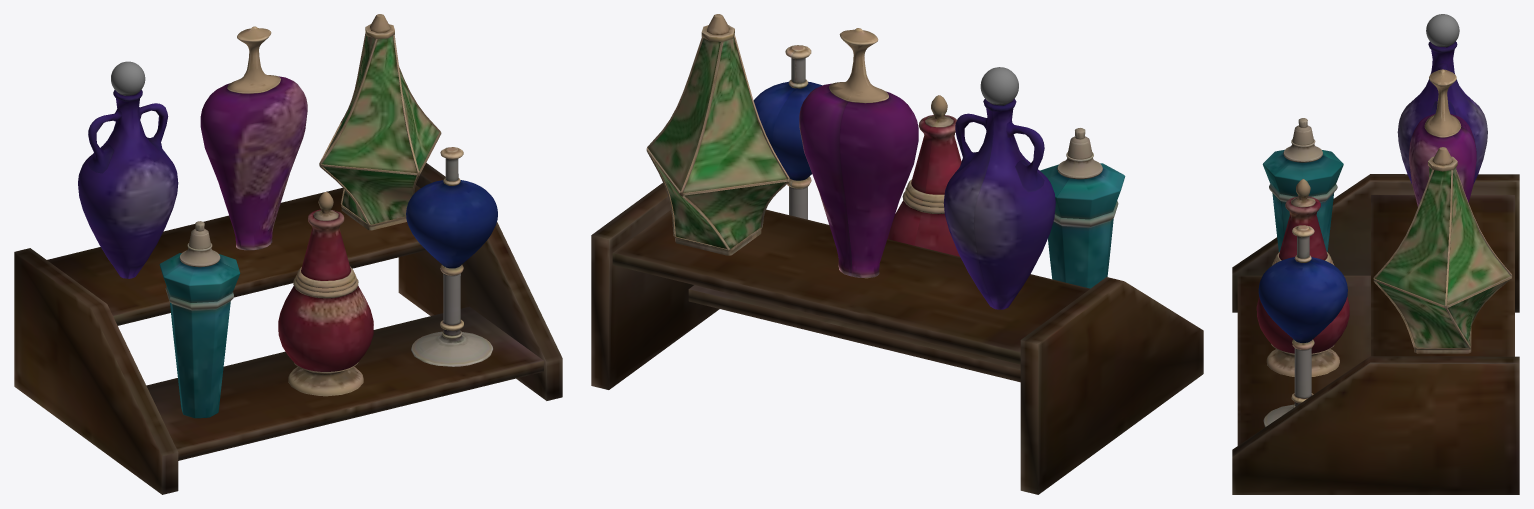
Rendered from potions2.glb.
3 views of the same model, side by side, from view 1: azimuth 30°, elevation 25°; view 2: azimuth 150°, elevation 25°; view 3: azimuth 270°, elevation 25° (orthographic). The views are drawn at different scales.
Parts seen in each view (by area): view 1: Shelf01_shelf_mt_0, Potion04_potion04_glass_0, Potion07_potion07_glass_0, Potion06_potion06_glass_0, Potion01_potion01_glass_0, Potion03_potion03_glass_0, Potion02_potion02_glass_0, Potion02_potion02_metal_0, Potion01_potion01_metal_0, Potion06_potion06_metal_0, Potion04_potion04_metal_0, Potion03_potion03_metal_0 (+1 smaller); view 2: Shelf01_shelf_mt_0, Potion06_potion06_glass_0, Potion04_potion04_glass_0, Potion07_potion07_glass_0, Potion03_potion03_glass_0, Potion01_potion01_glass_0, Potion06_potion06_metal_0, Potion02_potion02_glass_0, Potion04_potion04_metal_0, Potion02_potion02_metal_0, Potion01_potion01_metal_0, Potion03_potion03_metal_0 (+1 smaller); view 3: Shelf01_shelf_mt_0, Potion06_potion06_glass_0, Potion02_potion02_glass_0, Potion03_potion03_glass_0, Potion07_potion07_glass_0, Potion01_potion01_glass_0, Potion04_potion04_glass_0, Potion06_potion06_metal_0, Potion02_potion02_metal_0, Potion01_potion01_metal_0, Potion04_potion04_metal_0, Potion03_potion03_metal_0 (+1 smaller).
Boxes of the visible parts, left/top/right/bottom form: Shelf01_shelf_mt_0: left=14, top=163, right=562, bottom=494; Potion04_potion04_glass_0: left=200, top=76, right=307, bottom=250; Potion07_potion07_glass_0: left=78, top=90, right=178, bottom=278; Potion06_potion06_glass_0: left=322, top=35, right=439, bottom=224; Potion01_potion01_glass_0: left=278, top=209, right=373, bottom=371; Potion03_potion03_glass_0: left=159, top=253, right=240, bottom=418; Potion02_potion02_glass_0: left=406, top=180, right=497, bottom=268; Potion02_potion02_metal_0: left=411, top=147, right=492, bottom=366; Potion01_potion01_metal_0: left=288, top=192, right=363, bottom=396; Potion06_potion06_metal_0: left=319, top=14, right=441, bottom=230; Potion04_potion04_metal_0: left=227, top=26, right=280, bottom=93; Potion03_potion03_metal_0: left=179, top=221, right=220, bottom=267; Shelf01_shelf_mt_0: left=591, top=183, right=1203, bottom=494; Potion06_potion06_glass_0: left=648, top=38, right=786, bottom=248; Potion04_potion04_glass_0: left=799, top=83, right=918, bottom=278; Potion07_potion07_glass_0: left=943, top=98, right=1055, bottom=309; Potion03_potion03_glass_0: left=1040, top=163, right=1125, bottom=288; Potion01_potion01_glass_0: left=887, top=115, right=961, bottom=256; Potion06_potion06_metal_0: left=646, top=14, right=789, bottom=255; Potion02_potion02_glass_0: left=753, top=81, right=822, bottom=180; Potion04_potion04_metal_0: left=829, top=28, right=888, bottom=103; Potion02_potion02_metal_0: left=785, top=45, right=811, bottom=219; Potion01_potion01_metal_0: left=902, top=95, right=953, bottom=213; Potion03_potion03_metal_0: left=1057, top=128, right=1102, bottom=179; Shelf01_shelf_mt_0: left=1232, top=174, right=1519, bottom=494; Potion06_potion06_glass_0: left=1375, top=167, right=1510, bottom=347; Potion02_potion02_glass_0: left=1258, top=257, right=1347, bottom=342; Potion03_potion03_glass_0: left=1262, top=149, right=1343, bottom=251; Potion07_potion07_glass_0: left=1397, top=41, right=1487, bottom=183; Potion01_potion01_glass_0: left=1256, top=196, right=1349, bottom=353; Potion04_potion04_glass_0: left=1409, top=113, right=1476, bottom=206; Potion06_potion06_metal_0: left=1373, top=147, right=1512, bottom=353; Potion02_potion02_metal_0: left=1263, top=225, right=1314, bottom=426; Potion01_potion01_metal_0: left=1266, top=179, right=1339, bottom=376; Potion04_potion04_metal_0: left=1424, top=69, right=1461, bottom=137; Potion03_potion03_metal_0: left=1283, top=118, right=1322, bottom=162.
Size of the model in its own units: 48.59 by 39.3 by 31.06.
13 materials, 13 textured.
